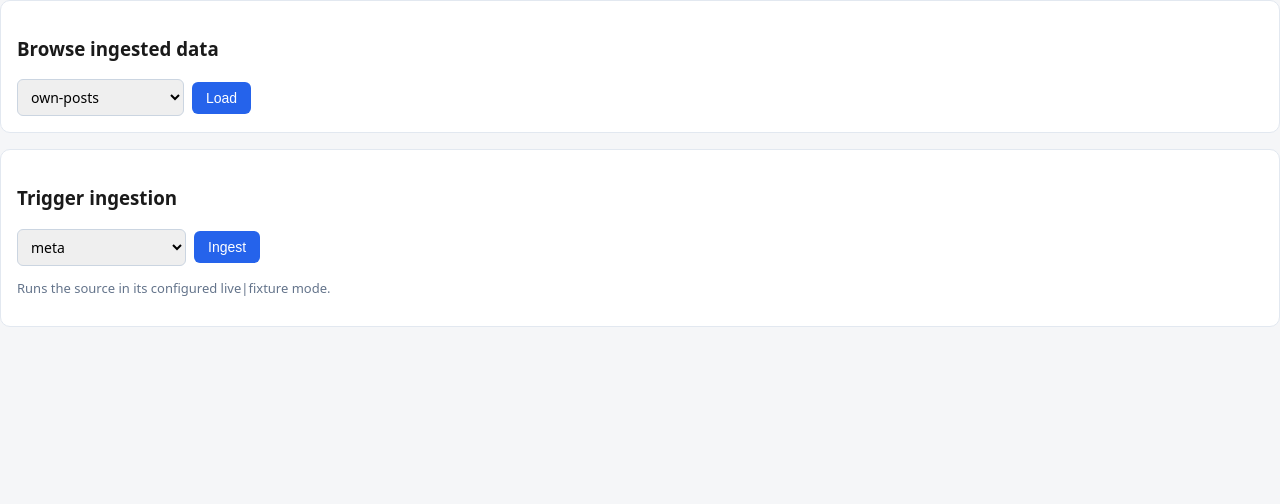
it: Load fetches the selected resource and renders JSON
Click the button "Load".
click(222, 98)  # box [192,82,251,114]
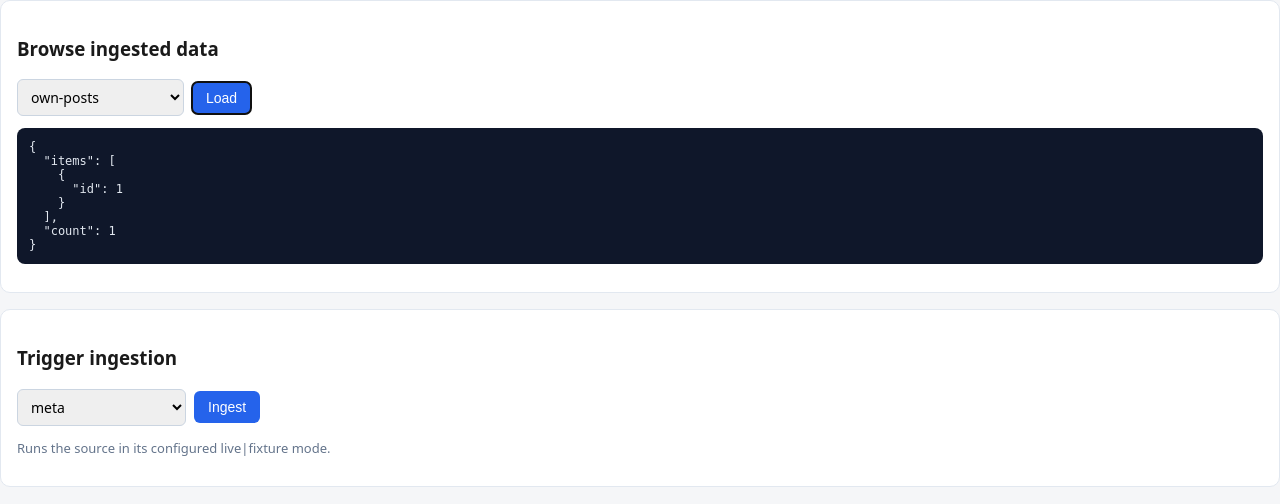
Result: the text "{ \"items\": [ { \"id\": 1 } ], \"count\": 1 }" is shown at [17,128,1263,264]
